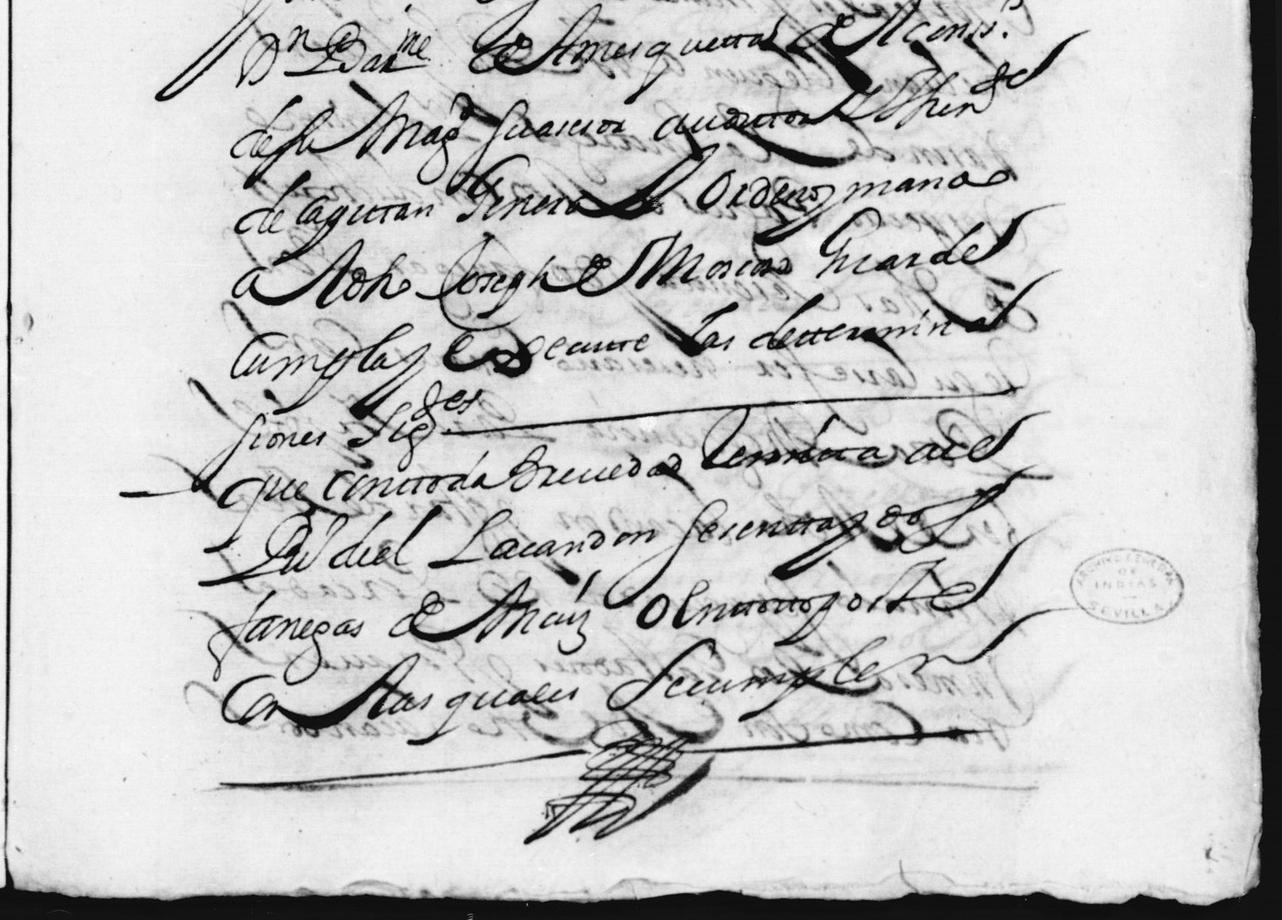lacandon: (427, 508, 656, 569)
